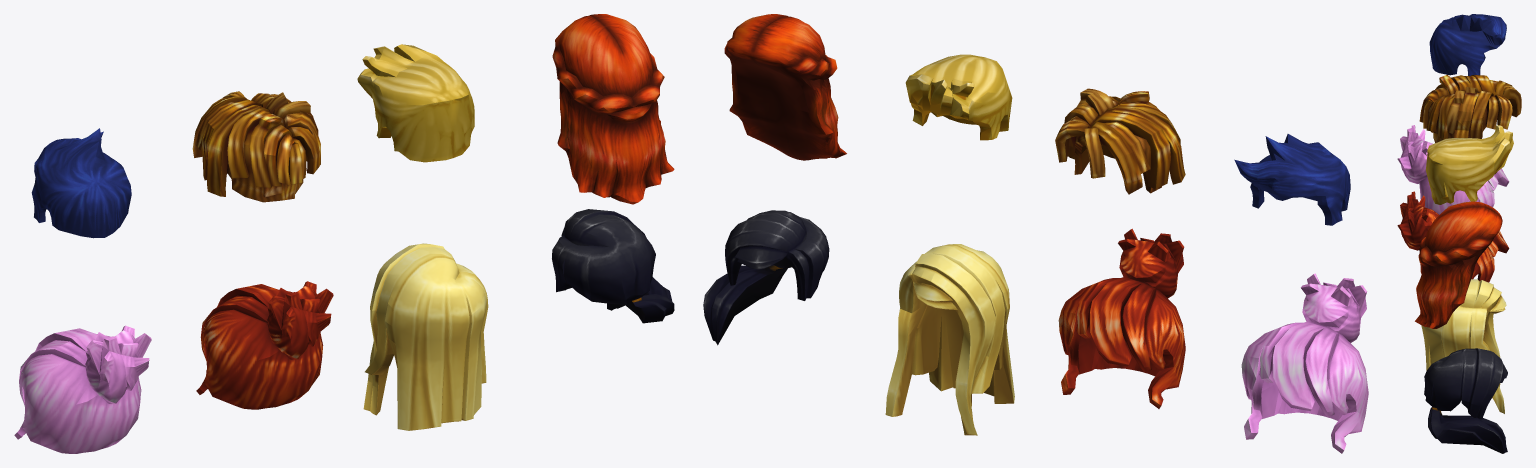
Rendered from hair_1.glb.
3 views of the same model, side by side, from view 1: azimuth 30°, elevation 25°; view 2: azimuth 150°, elevation 25°; view 3: azimuth 270°, elevation 25° (orthographic). The views are drawn at different scales.
Parts seen in each view (by area): view 1: Object_3, Object_5, Object_2, Object_4, Object_8, Object_9, Object_7, Object_6; view 2: Object_3, Object_2, Object_4, Object_5, Object_8, Object_7, Object_9, Object_6; view 3: Object_5, Object_7, Object_8, Object_9, Object_3, Object_6, Object_4, Object_2.
Boxes of the visible parts, x1,y1,x2,y2 form: Object_3: [363, 243, 488, 430]; Object_5: [552, 14, 674, 204]; Object_2: [196, 281, 333, 409]; Object_4: [14, 325, 151, 453]; Object_8: [192, 91, 320, 202]; Object_9: [357, 44, 474, 162]; Object_7: [552, 209, 674, 323]; Object_6: [31, 128, 131, 238]; Object_3: [885, 244, 1014, 435]; Object_2: [1058, 228, 1185, 408]; Object_4: [1241, 273, 1368, 453]; Object_5: [724, 14, 846, 160]; Object_8: [1055, 88, 1185, 194]; Object_7: [703, 210, 829, 345]; Object_9: [905, 54, 1012, 140]; Object_6: [1234, 134, 1350, 225]; Object_5: [1415, 201, 1502, 328]; Object_7: [1424, 348, 1507, 453]; Object_8: [1419, 74, 1521, 142]; Object_9: [1426, 125, 1513, 204]; Object_3: [1421, 279, 1506, 413]; Object_6: [1429, 14, 1506, 75]; Object_4: [1397, 125, 1509, 214]; Object_2: [1397, 191, 1509, 282].
Bounding box in the file's own units: 10.49 × 5.7 × 2.37.
Materials: 8 (8 with a texture image).
